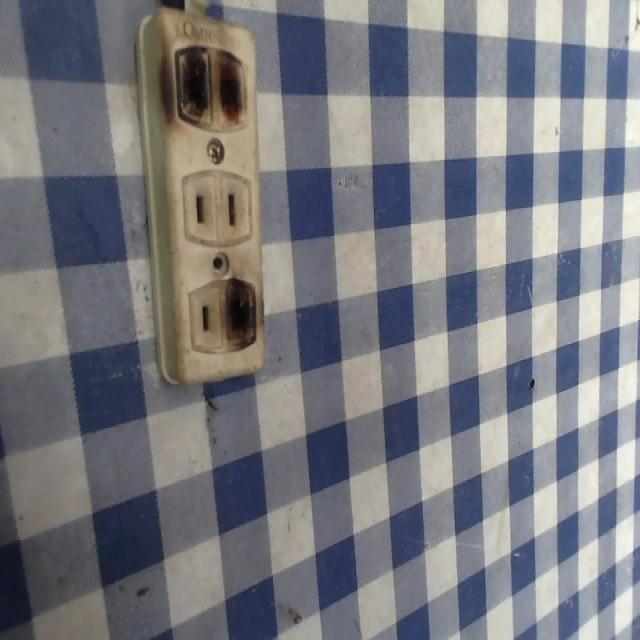-: (163, 37, 250, 135), (216, 274, 263, 358)
